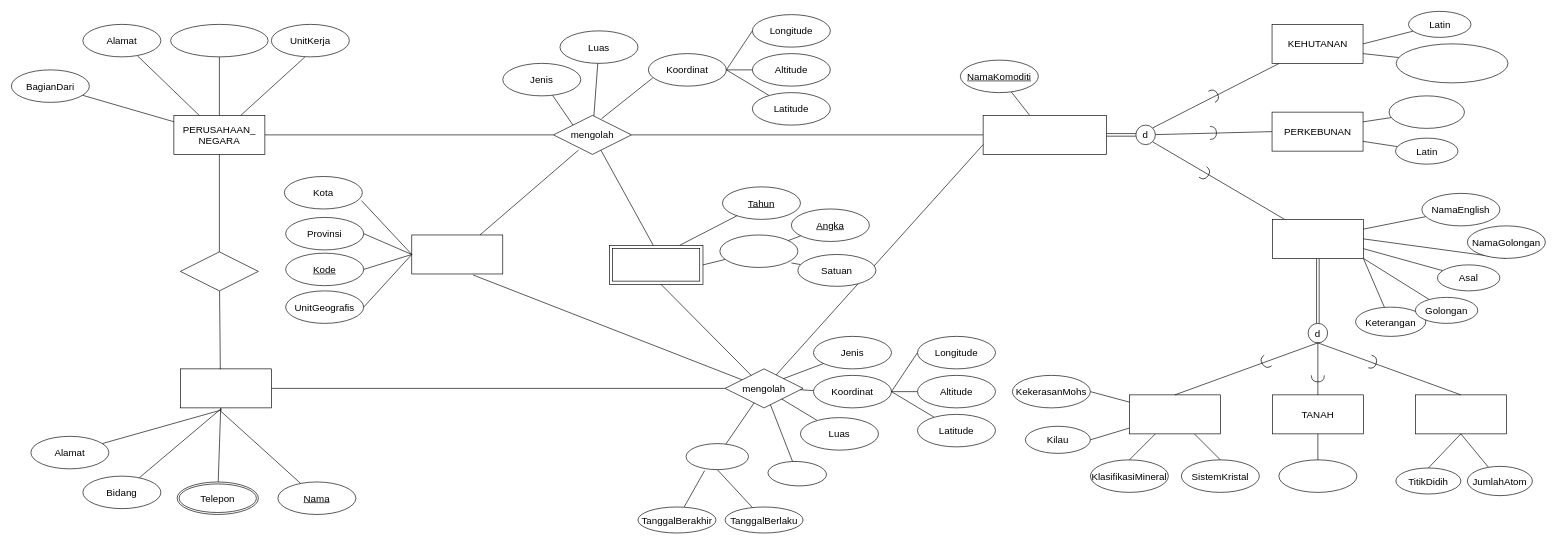
Image size: 1557x545. Some labels were removed from this diagram. Each missing label, with the box of its shape:
Hasil: (609, 245, 703, 284)
Izin: (685, 443, 748, 470)
JenisPerhutananSosial: (1396, 43, 1508, 83)
Jumlah: (719, 234, 798, 267)
KandunganUnsur: (1278, 459, 1357, 492)
Lisensi: (767, 460, 827, 487)
menjual: (180, 251, 258, 291)
MINERAL: (1129, 394, 1220, 434)
MINYAK BUMI: (1415, 394, 1506, 434)
NamaPerusahaan: (170, 24, 268, 57)
PERTAMBANGAN: (1272, 219, 1363, 258)
PERUSAHAAN_ SWASTA: (180, 368, 271, 408)
SUMBER_DAYA_ALAM: (982, 115, 1107, 154)
WaktuPanen: (1388, 95, 1464, 128)
WILAYAH: (411, 234, 503, 274)
